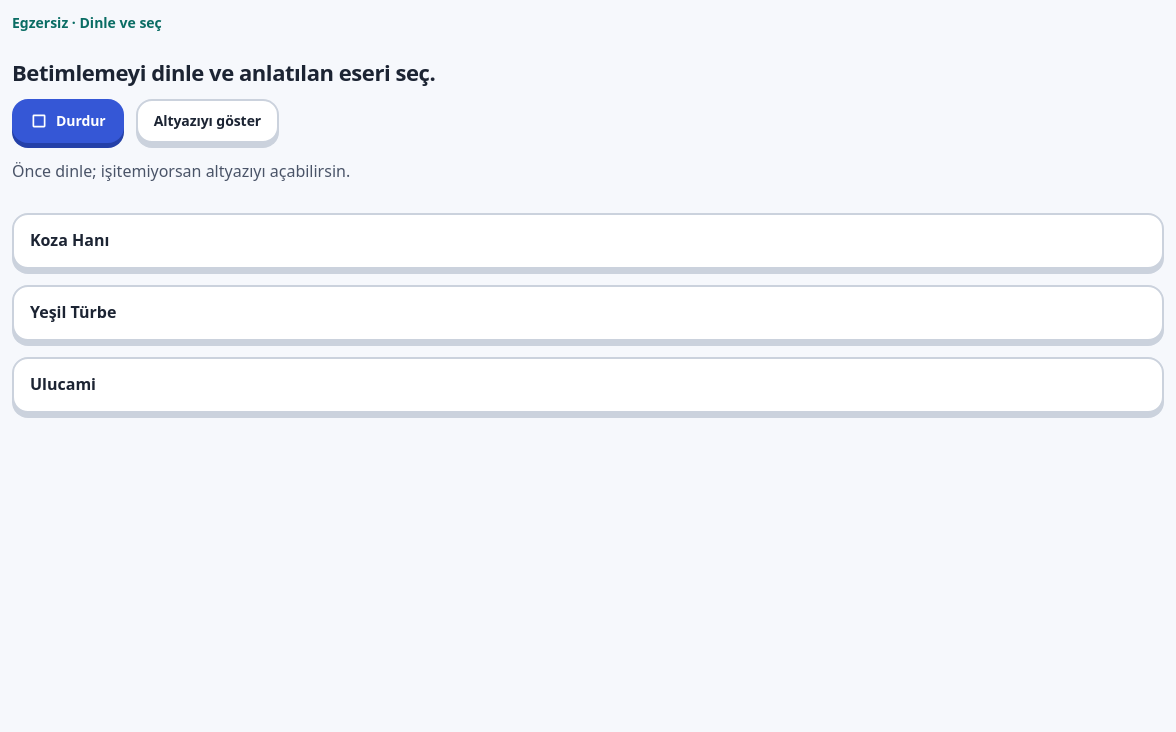
Şık sırası karıştırılır › eseri tanı: doğru şık ilk sırada olsa da sona düşebilir ve yine doğru sayılır
The width and height of the screenshot is (1176, 732).
Expected: the button "Koza Hanı" does not show "Ulucami", [12, 213, 1164, 269]
Click the button "Ulucami" at (63, 384), box [12, 357, 1164, 413]
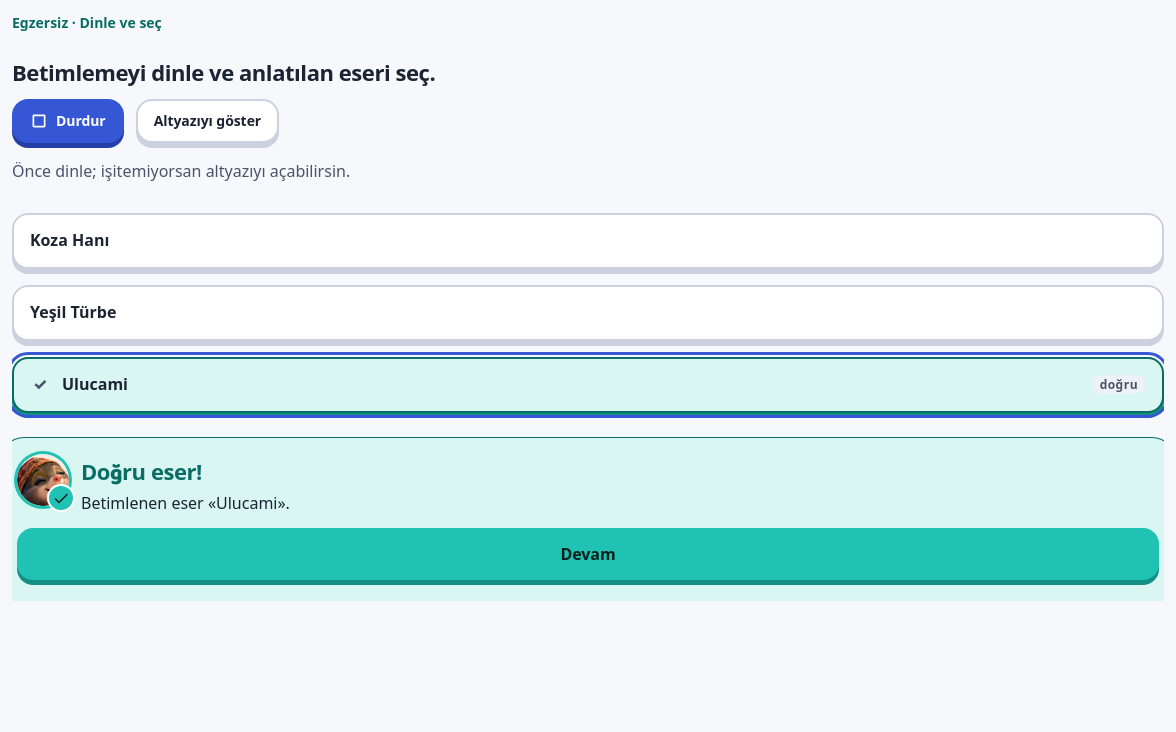
Expected: the text "Doğru eser!" is shown, [81, 456, 202, 486]
